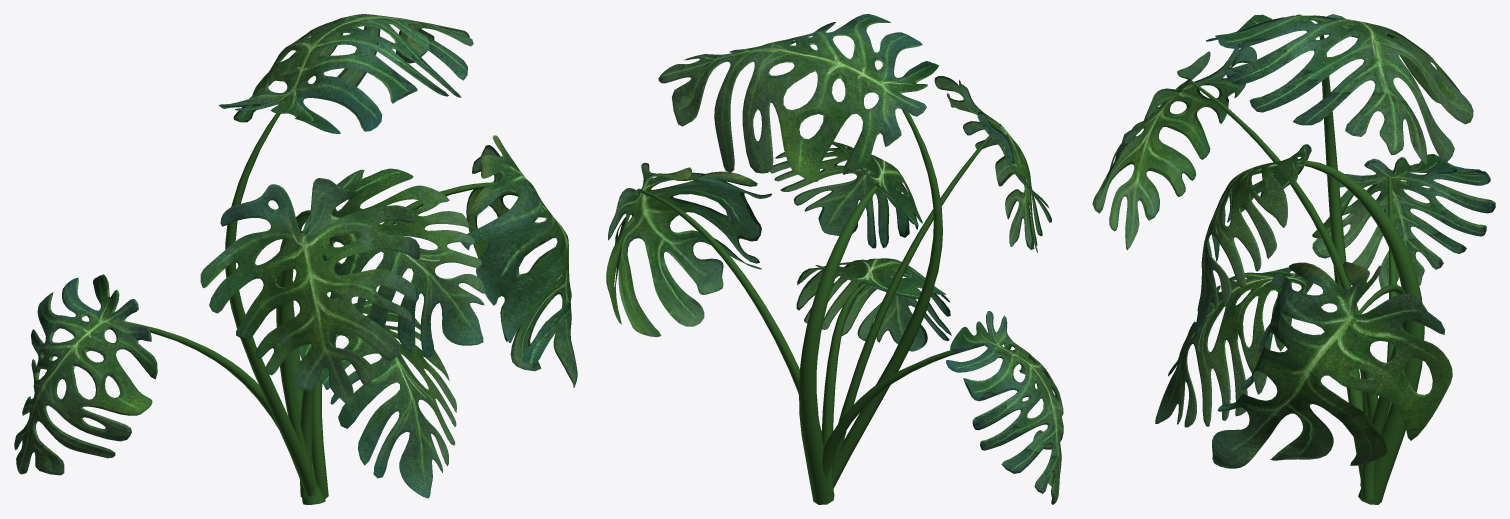
Rendered from monstera_tree.glb.
3 renders of one model, left to right at view 1: azimuth 30°, elevation 25°; view 2: azimuth 150°, elevation 25°; view 3: azimuth 270°, elevation 25°, orthographic. The views are drawn at different scales.
Parts seen in each view (by area): view 1: 6L.004; view 2: 6L.004; view 3: 6L.004.
Boxes of the visible parts, box(x1,y1,x2,y2) form: 6L.004: box(14, 14, 577, 504); 6L.004: box(606, 14, 1063, 504); 6L.004: box(1092, 14, 1495, 504).
Bounding box in the file's own units: 745 × 666 × 500.
Materials: 3 (2 with a texture image).
